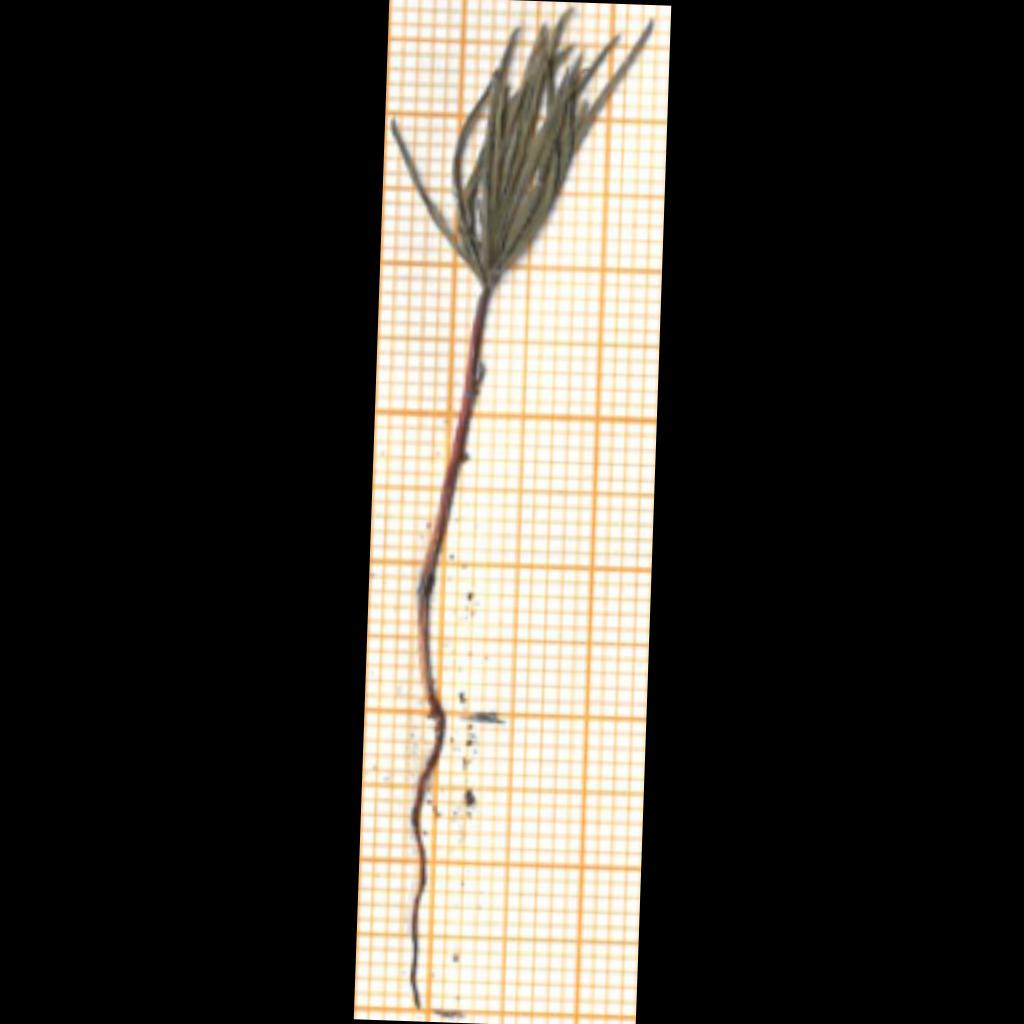flowerPinus: (420, 13, 617, 287)
rootPinus: (411, 706, 445, 1011)
stemPinus: (417, 290, 489, 718)
